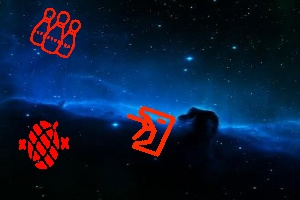保龄球: (31, 9, 81, 58)
像7: (127, 105, 176, 156)
炸弹: (20, 118, 71, 173)
